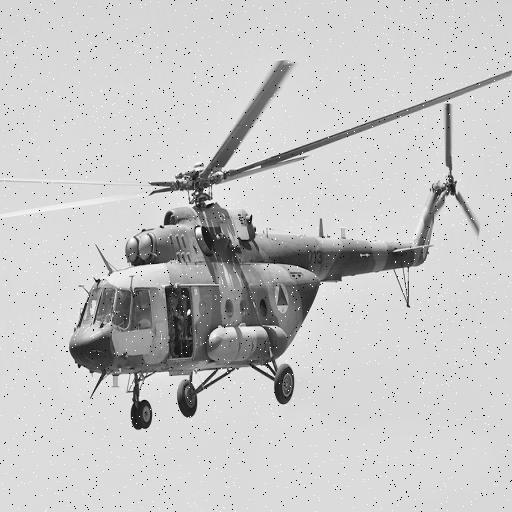helicopter: (13, 60, 512, 429)
